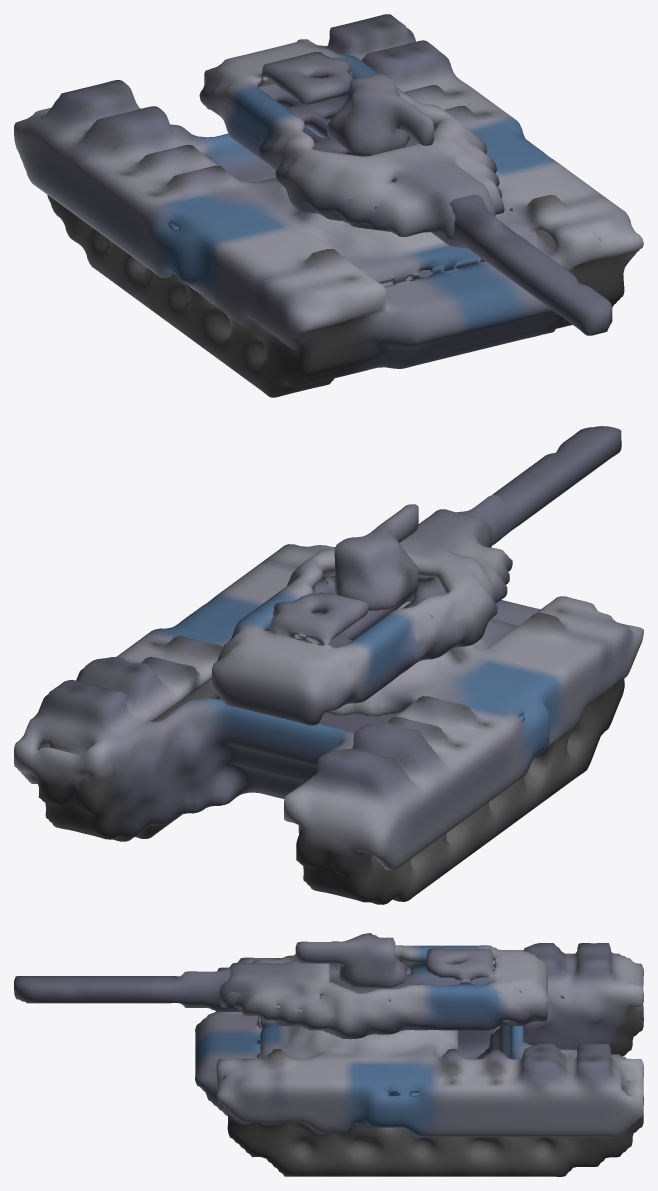
File: mtnk.glb
The picture shows the model from 3 angles, top to bottom: view 1: azimuth 30°, elevation 25°; view 2: azimuth 150°, elevation 25°; view 3: azimuth 270°, elevation 25°; orthographic projection. The views are drawn at different scales.
Visible parts, largest first — view 1: mtnk; view 2: mtnk; view 3: mtnk.
Part boxes in pixels (bbox=[...]): mtnk: bbox=[14, 14, 643, 397]; mtnk: bbox=[14, 426, 643, 904]; mtnk: bbox=[14, 933, 643, 1176].
Size of the model in its own units: 2.5 by 1.51 by 4.8.
